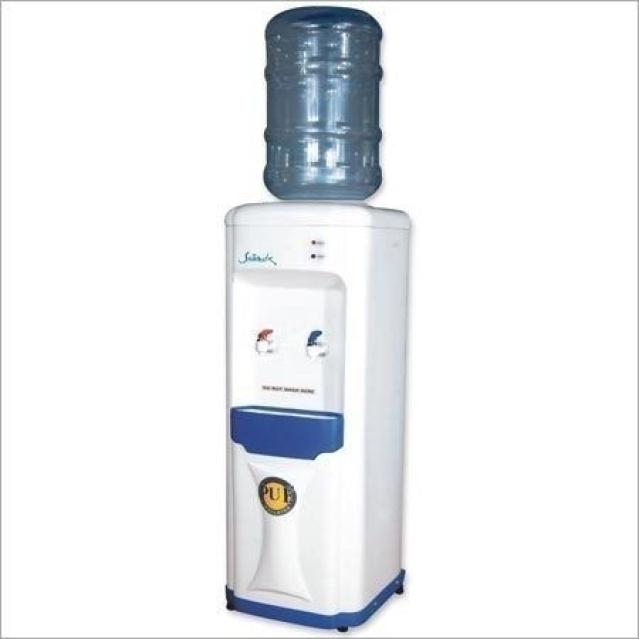Dispenser: (222, 6, 410, 631)
